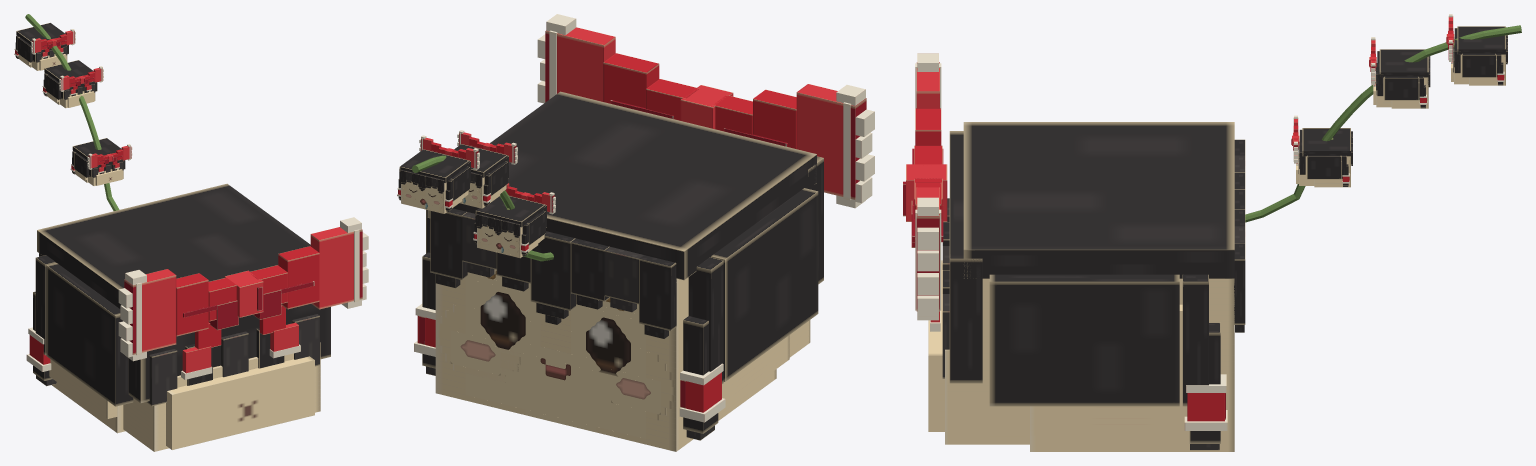
Rendered from birth_family_reimu.obj.
The picture shows the model from 3 angles, left to right: view 1: azimuth 30°, elevation 25°; view 2: azimuth 150°, elevation 25°; view 3: azimuth 270°, elevation 25°; orthographic projection. The views are drawn at different scales.
Parts seen in each view (by area): view 1: birth_family_reimu; view 2: birth_family_reimu; view 3: birth_family_reimu.
Boxes of the visible parts, box(x1,y1,x2,y2) form: birth_family_reimu: box(14, 14, 368, 451); birth_family_reimu: box(397, 14, 874, 451); birth_family_reimu: box(903, 14, 1521, 451).
Bounding box in the file's own units: 16.28 × 17.15 × 26.22.
Materials: 1 (1 with a texture image).
